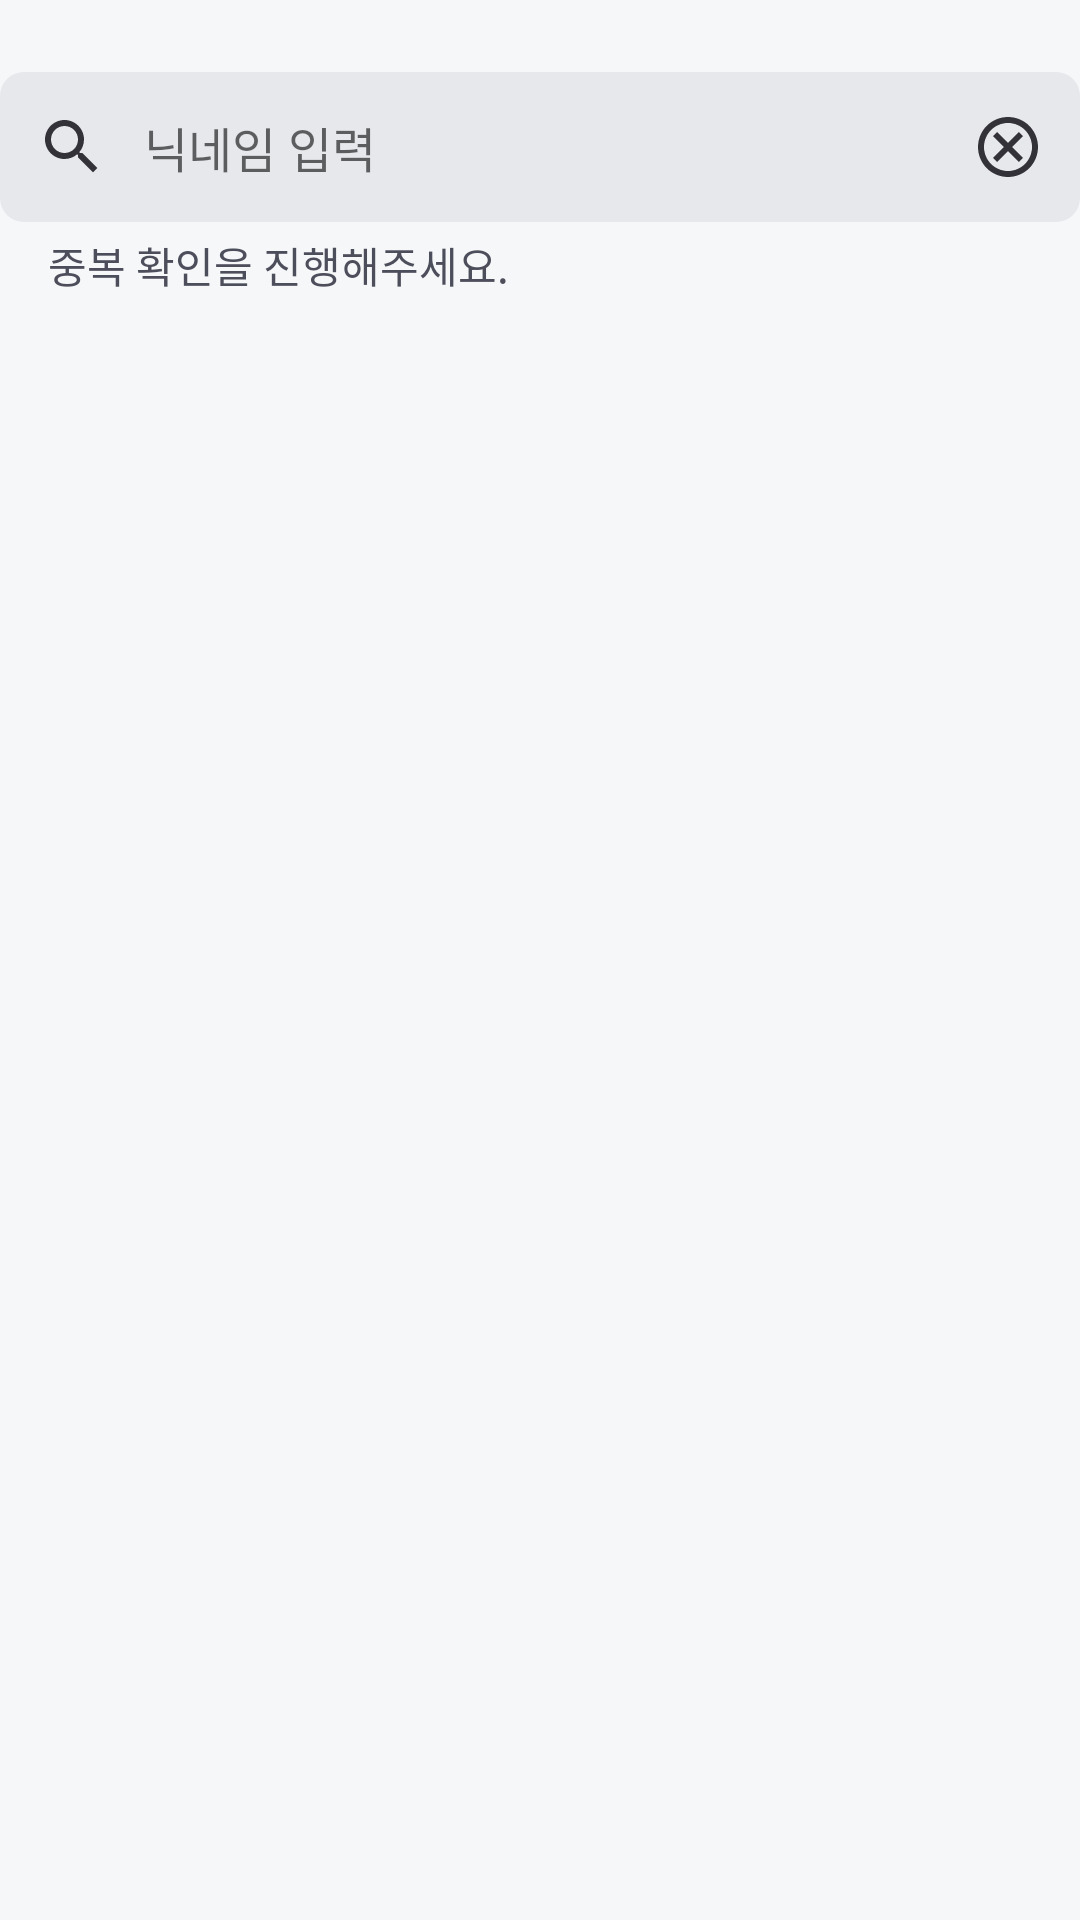

Point at icon controls on the screen. Image size 1080 × 1920, points as [x,y].
닉네임 초기화: [1008,147]
중복 검사: [71,146]
